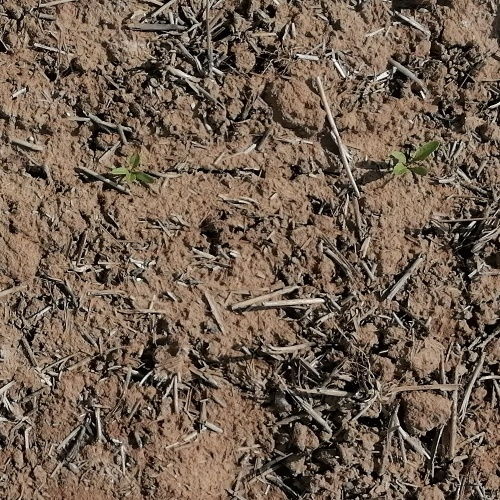beet: (389, 140, 440, 177), (108, 152, 157, 185)
